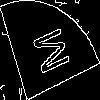M: (25, 24, 71, 80)
